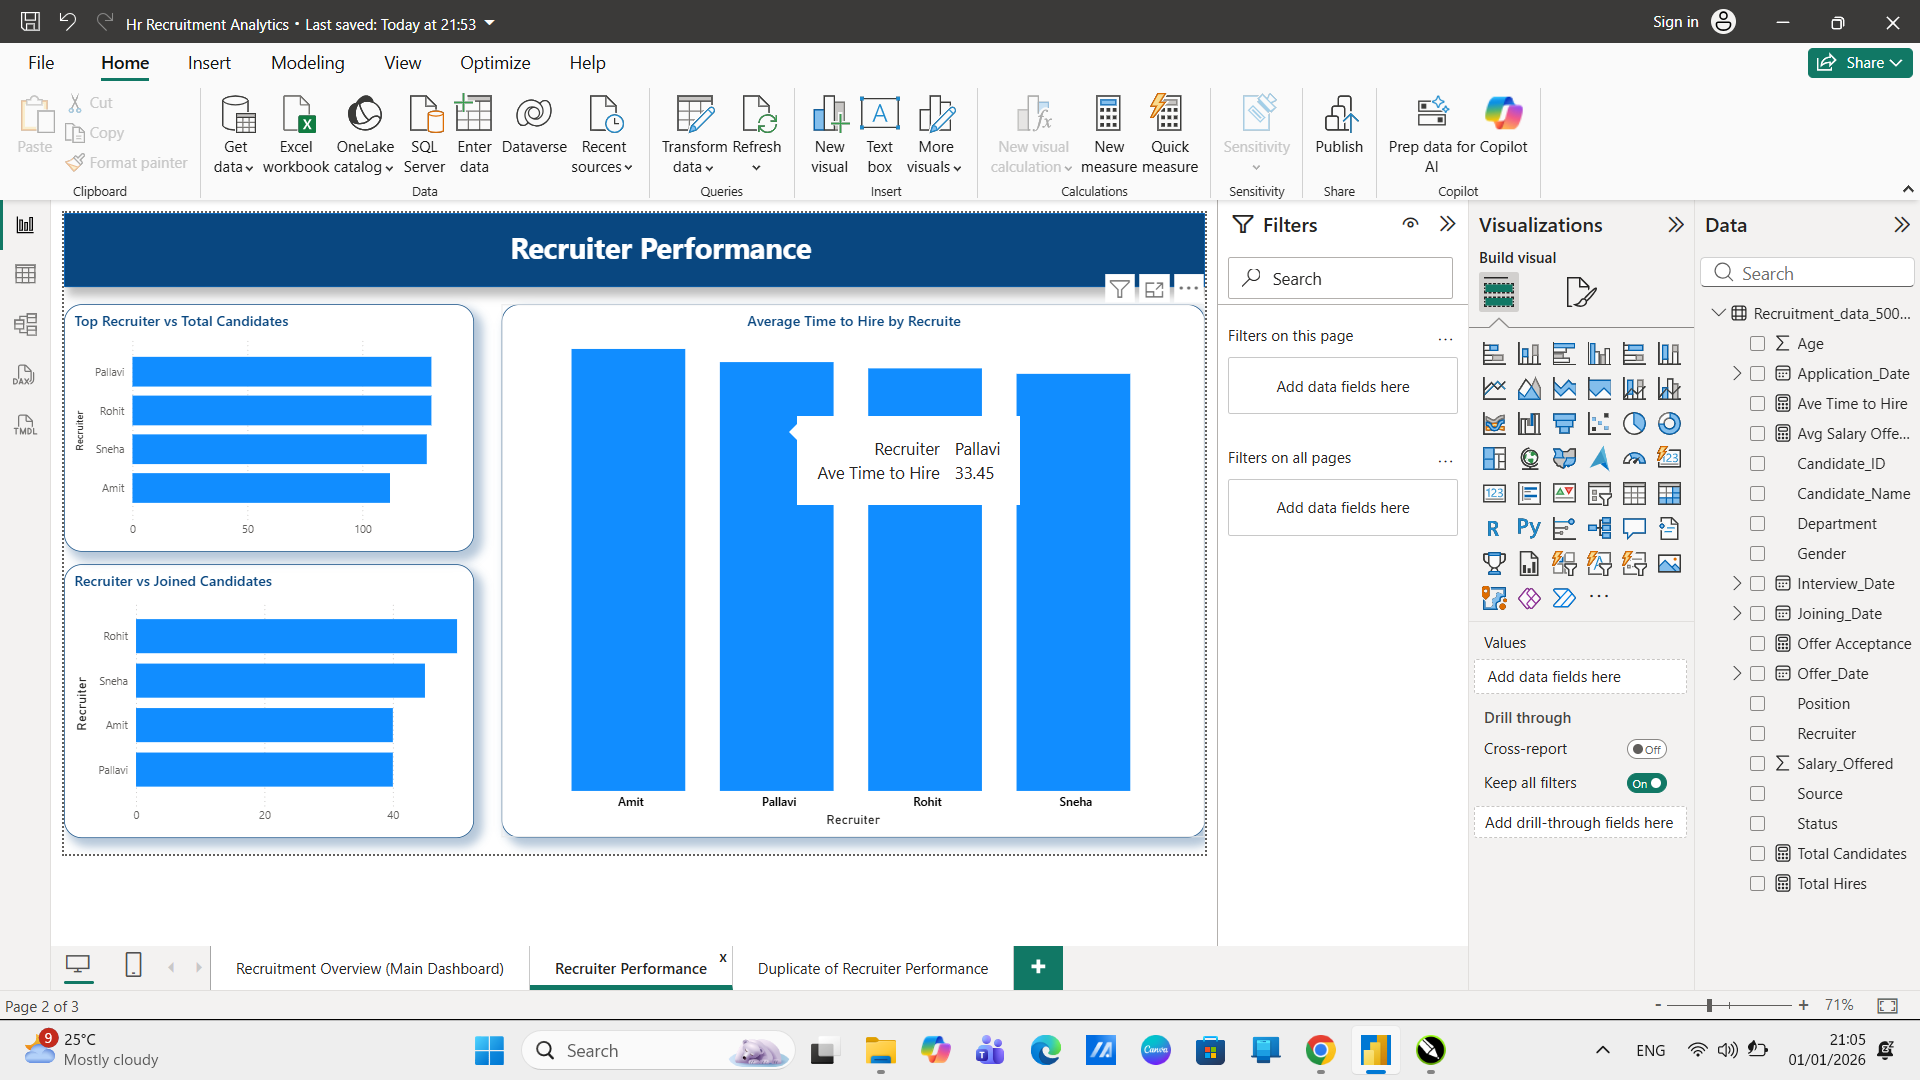

This screenshot's page, from the dashboard's own definition file:
{"tool":"powerbi","page":{"name":"Recruiter Performance","canvas":[1280,720],"ordinal":1},"visuals":[{"type":"shape","box":[0,0,1280.2,83.4],"z":0},{"type":"textbox","box":[491.1,13.1,357.6,57.2],"z":1000},{"type":"clusteredBarChart","title":"Top Recruiter vs Total Candidates","fields":{"Category":["Recruitment_data_500_records.Recruiter"],"Y":["CountNonNull(Recruitment_data_500_records.Candidate_ID)"]},"box":[0,102.4,459.9,277.7],"z":2000},{"type":"clusteredBarChart","title":"Recruiter vs Joined Candidates","fields":{"Category":["Recruitment_data_500_records.Recruiter"],"Y":["Recruitment_data_500_records.Joined Candidates"]},"box":[0,394,459.9,307.1],"z":3000},{"type":"columnChart","title":"Avg Time to Hire (Days)","fields":{"Category":["Recruitment_data_500_records.Recruiter"],"Y":["Recruitment_data_500_records.Ave Time to Hire"]},"box":[490.8,102.4,789.5,598.8],"z":4000}]}

Visuals, with their boxes on the page's 1280x720 design canvas (x1, y1, x2, y2). These are canvas units, not pixel positions in the 1920x1080 screenshot, which may show the page scaled, cropped or inside an application window:
shape: (0, 0, 1280, 83)
textbox: (491, 13, 849, 70)
"Top Recruiter vs Total Candidates" clusteredBarChart: (0, 102, 460, 380)
"Recruiter vs Joined Candidates" clusteredBarChart: (0, 394, 460, 701)
"Avg Time to Hire (Days)" columnChart: (491, 102, 1280, 701)
